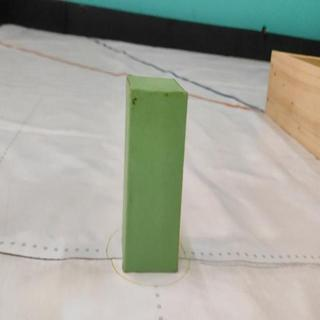greenbox: (124, 71, 188, 274)
